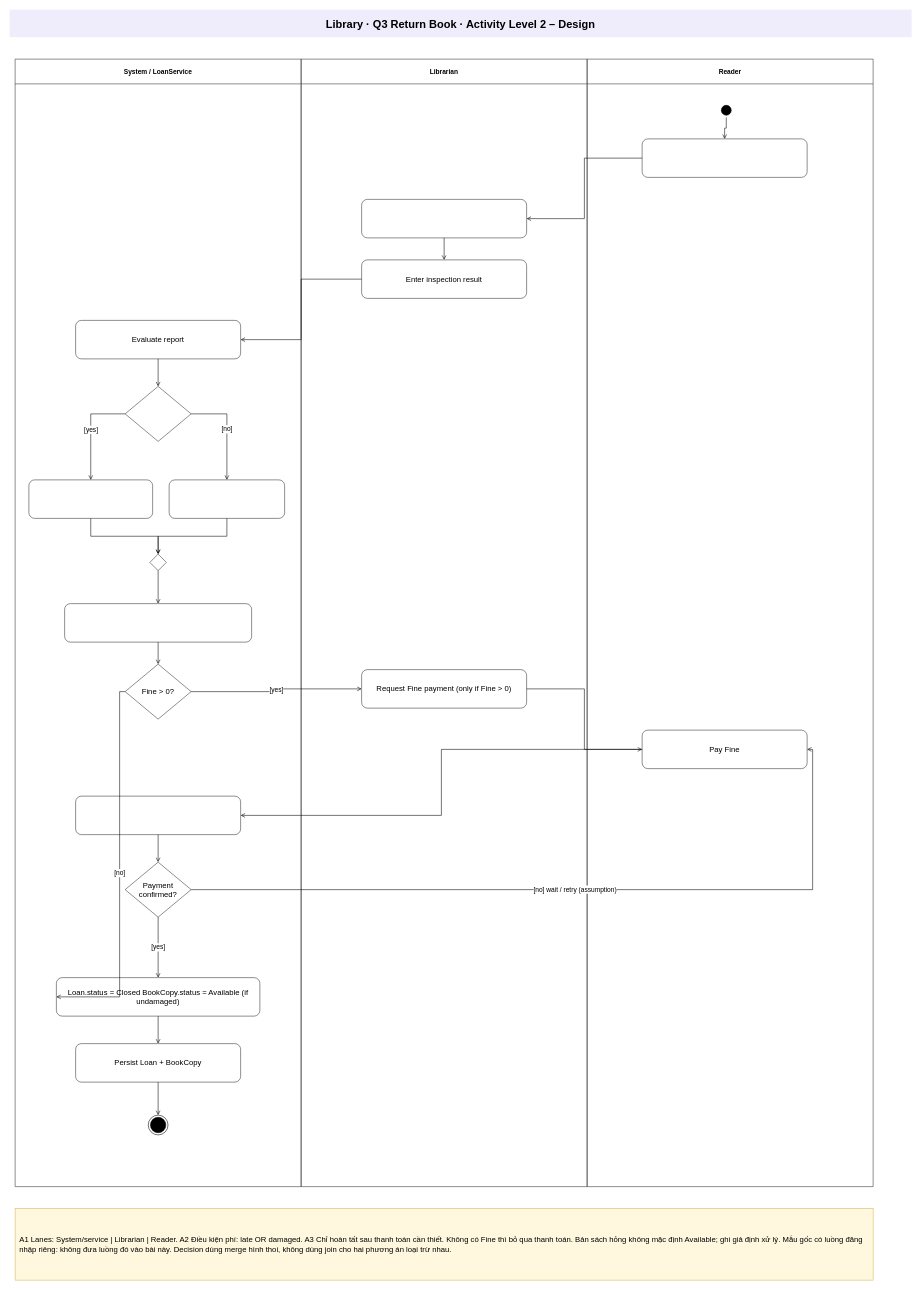
Some shapes in this 921 by 1290 pixel diagram are drawn without their labels. The box of each missing label's shape, as (x1, y1, x2, y2) in pixels:
Calculate final Fine: (64, 603, 252, 642)
Calculate Fine: (28, 479, 153, 518)
Confirm payment status: (75, 796, 241, 835)
Fine = 0: (169, 479, 285, 518)
Inspect BookCopy condition + due date: (361, 199, 527, 238)
Late OR damaged?: (125, 386, 191, 441)
Return BookCopy: (642, 138, 807, 177)
